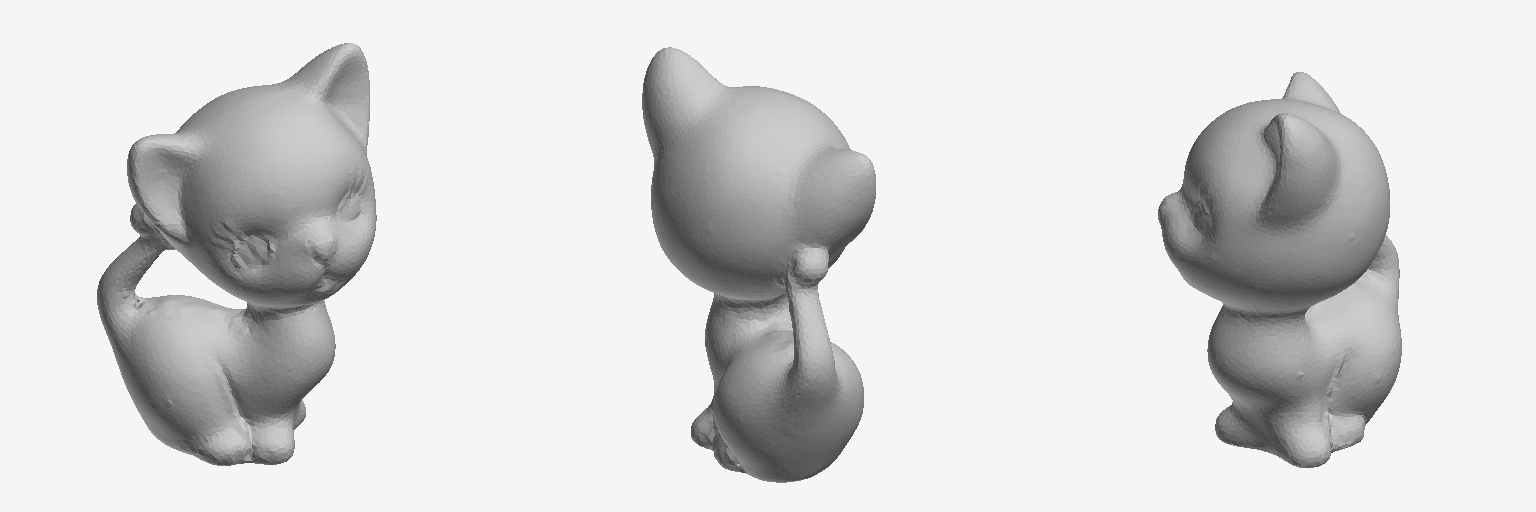
The model's file is kitten-61.obj.
3 renders of one model, left to right at view 1: azimuth 30°, elevation 25°; view 2: azimuth 150°, elevation 25°; view 3: azimuth 270°, elevation 25°, orthographic.
Visible parts, largest first — view 1: Object__0; view 2: Object__0; view 3: Object__0.
Part boxes in pixels (x1,y1,x2,y2): Object__0: (97,43,376,465); Object__0: (642,47,875,482); Object__0: (1158,72,1401,467).
Bounding box in the file's own units: 6.45 × 9.89 × 5.86.